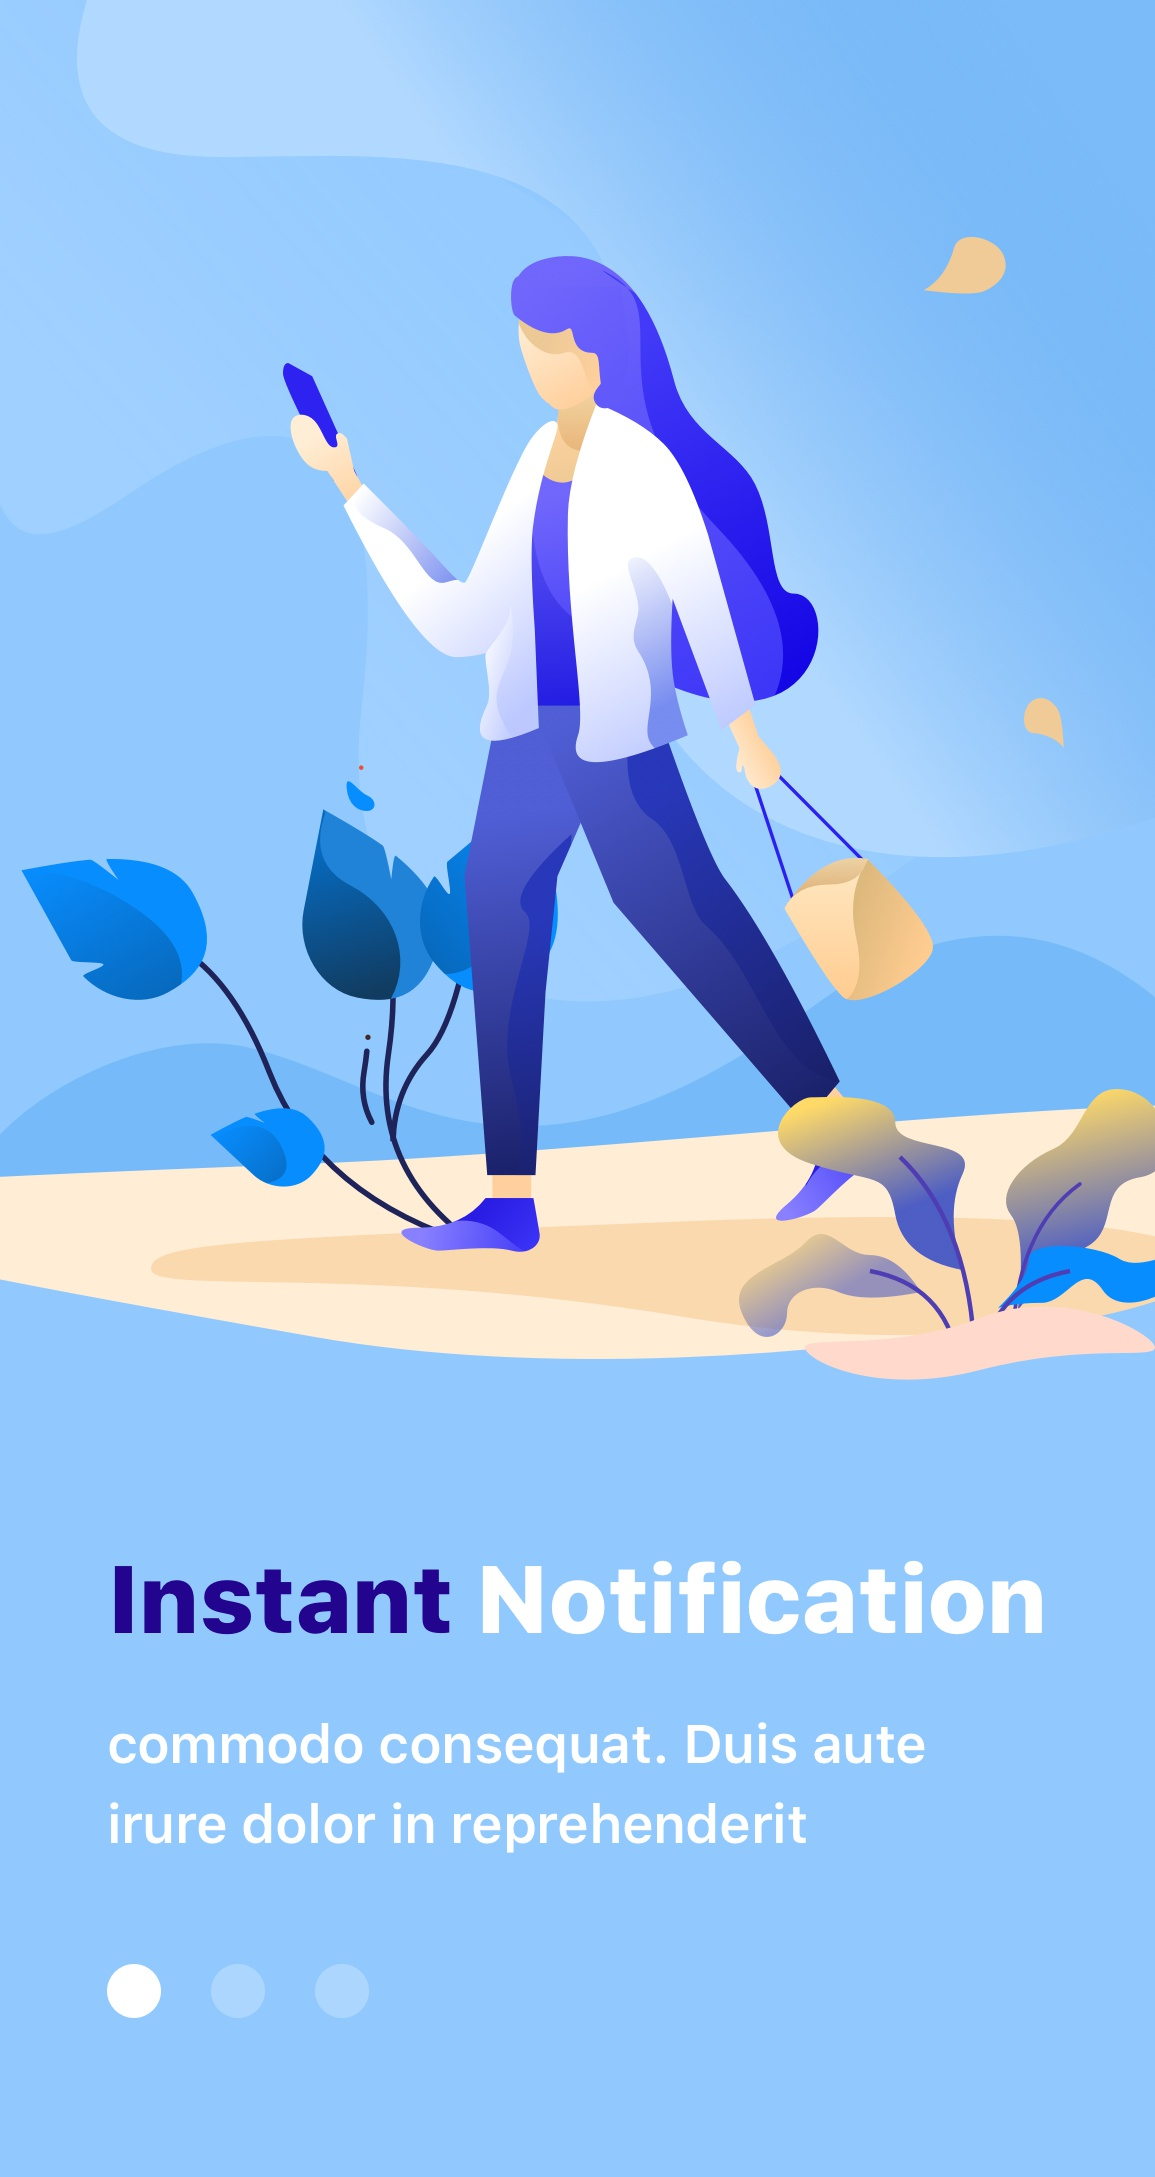Image: (4, 3, 1155, 1387)
PageIndicator: (105, 1961, 373, 2021)
Text: (107, 1721, 927, 1856), (112, 1559, 1044, 1639)
